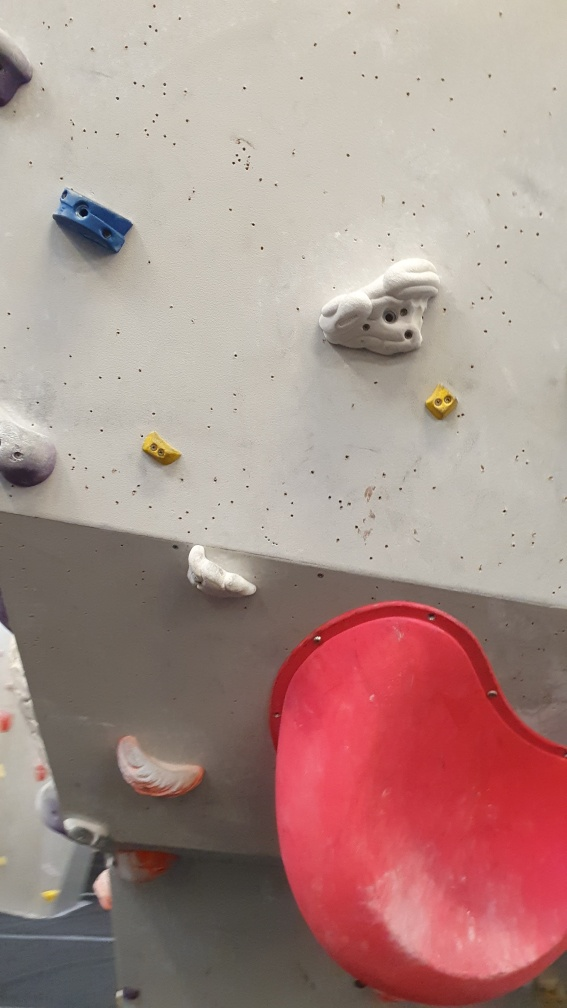Crimp: (135, 424, 185, 470)
Jug: (316, 252, 444, 360), (113, 732, 209, 802), (183, 541, 261, 610)
Pinch: (52, 186, 140, 257), (421, 377, 459, 425)
Sloper: (1, 410, 68, 494)
